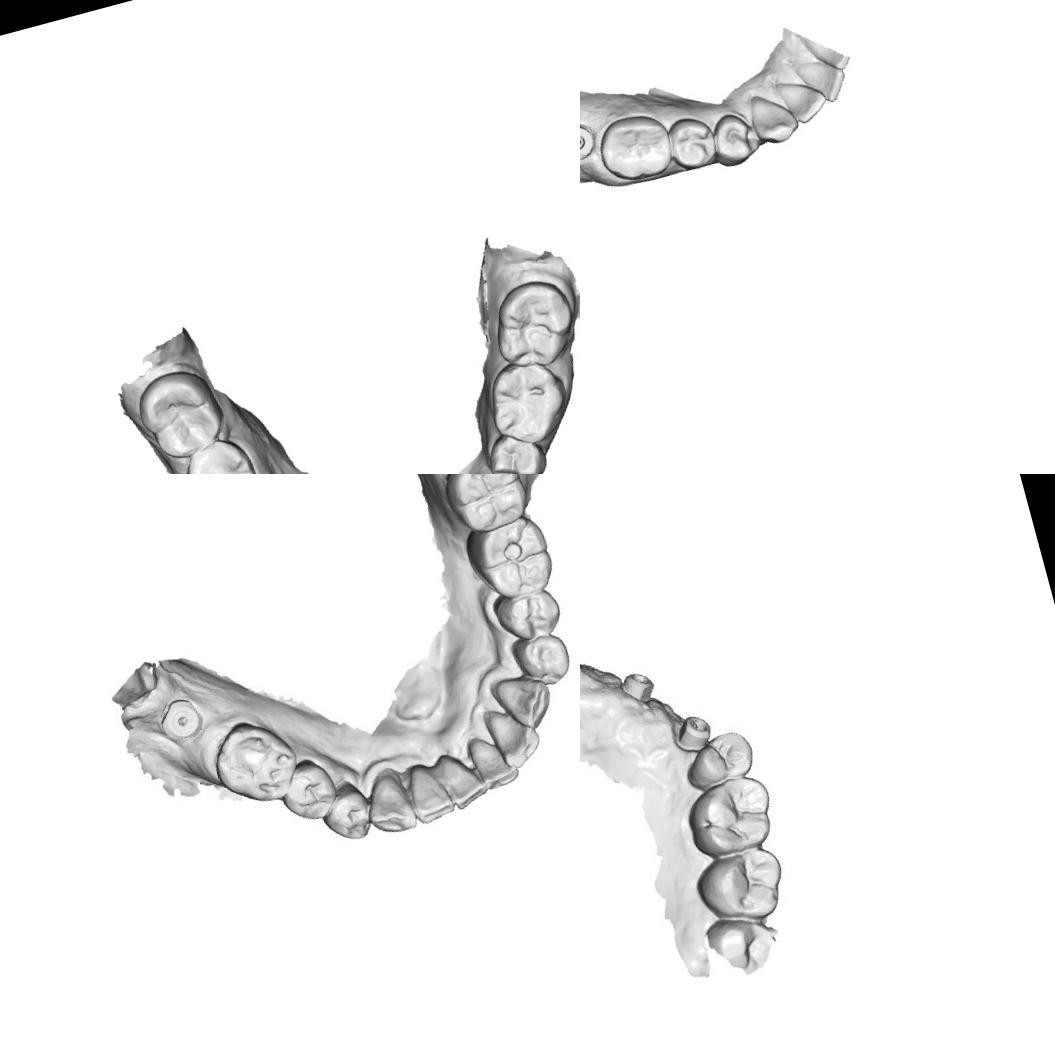canine: (354, 762, 426, 846), (487, 664, 560, 738), (744, 84, 803, 150)
implant: (151, 690, 211, 747), (616, 662, 672, 720), (670, 702, 720, 750), (580, 118, 599, 164)
incisor: (480, 701, 545, 774), (404, 754, 461, 829), (433, 744, 492, 815), (789, 50, 852, 112), (772, 70, 832, 129), (467, 732, 526, 792)
molar: (128, 361, 231, 469), (478, 352, 578, 454), (484, 271, 580, 377), (202, 711, 302, 812), (688, 840, 793, 936), (459, 511, 557, 608), (681, 772, 780, 861), (589, 106, 678, 190), (432, 474, 533, 542), (172, 431, 268, 474)
premolar: (674, 724, 760, 796), (271, 752, 340, 828), (488, 580, 562, 648), (507, 626, 577, 694), (314, 776, 378, 848), (661, 109, 722, 176), (704, 104, 760, 171), (481, 426, 552, 474)
